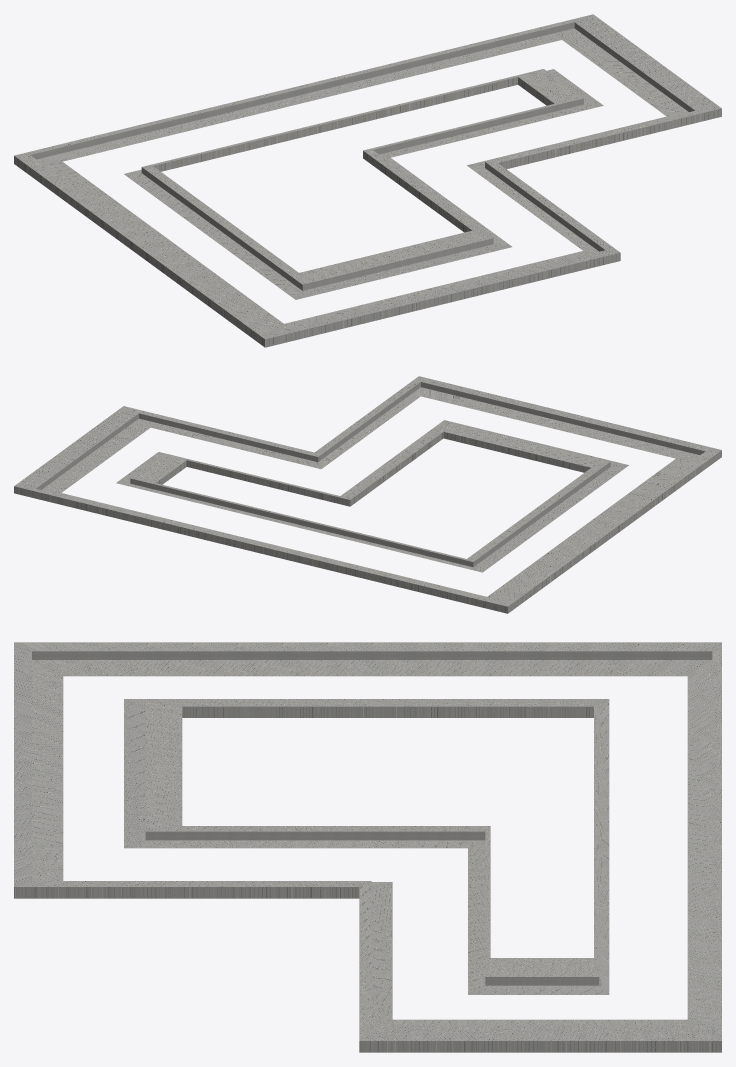
Rendered from racetrack_walls.gltf.
3 renders of one model, top to bottom at view 1: azimuth 30°, elevation 25°; view 2: azimuth 150°, elevation 25°; view 3: azimuth 270°, elevation 25°, orthographic. The views are drawn at different scales.
Parts seen in each view (by area): view 1: Cube.001; view 2: Cube.001; view 3: Cube.001.
Boxes of the visible parts, x1,y1,x2,y2 form: Cube.001: (14, 14, 721, 347); Cube.001: (14, 376, 721, 613); Cube.001: (14, 642, 721, 1052).
Bounding box in the file's own units: 684 × 9.37 × 513.
Materials: 1 (1 with a texture image).
